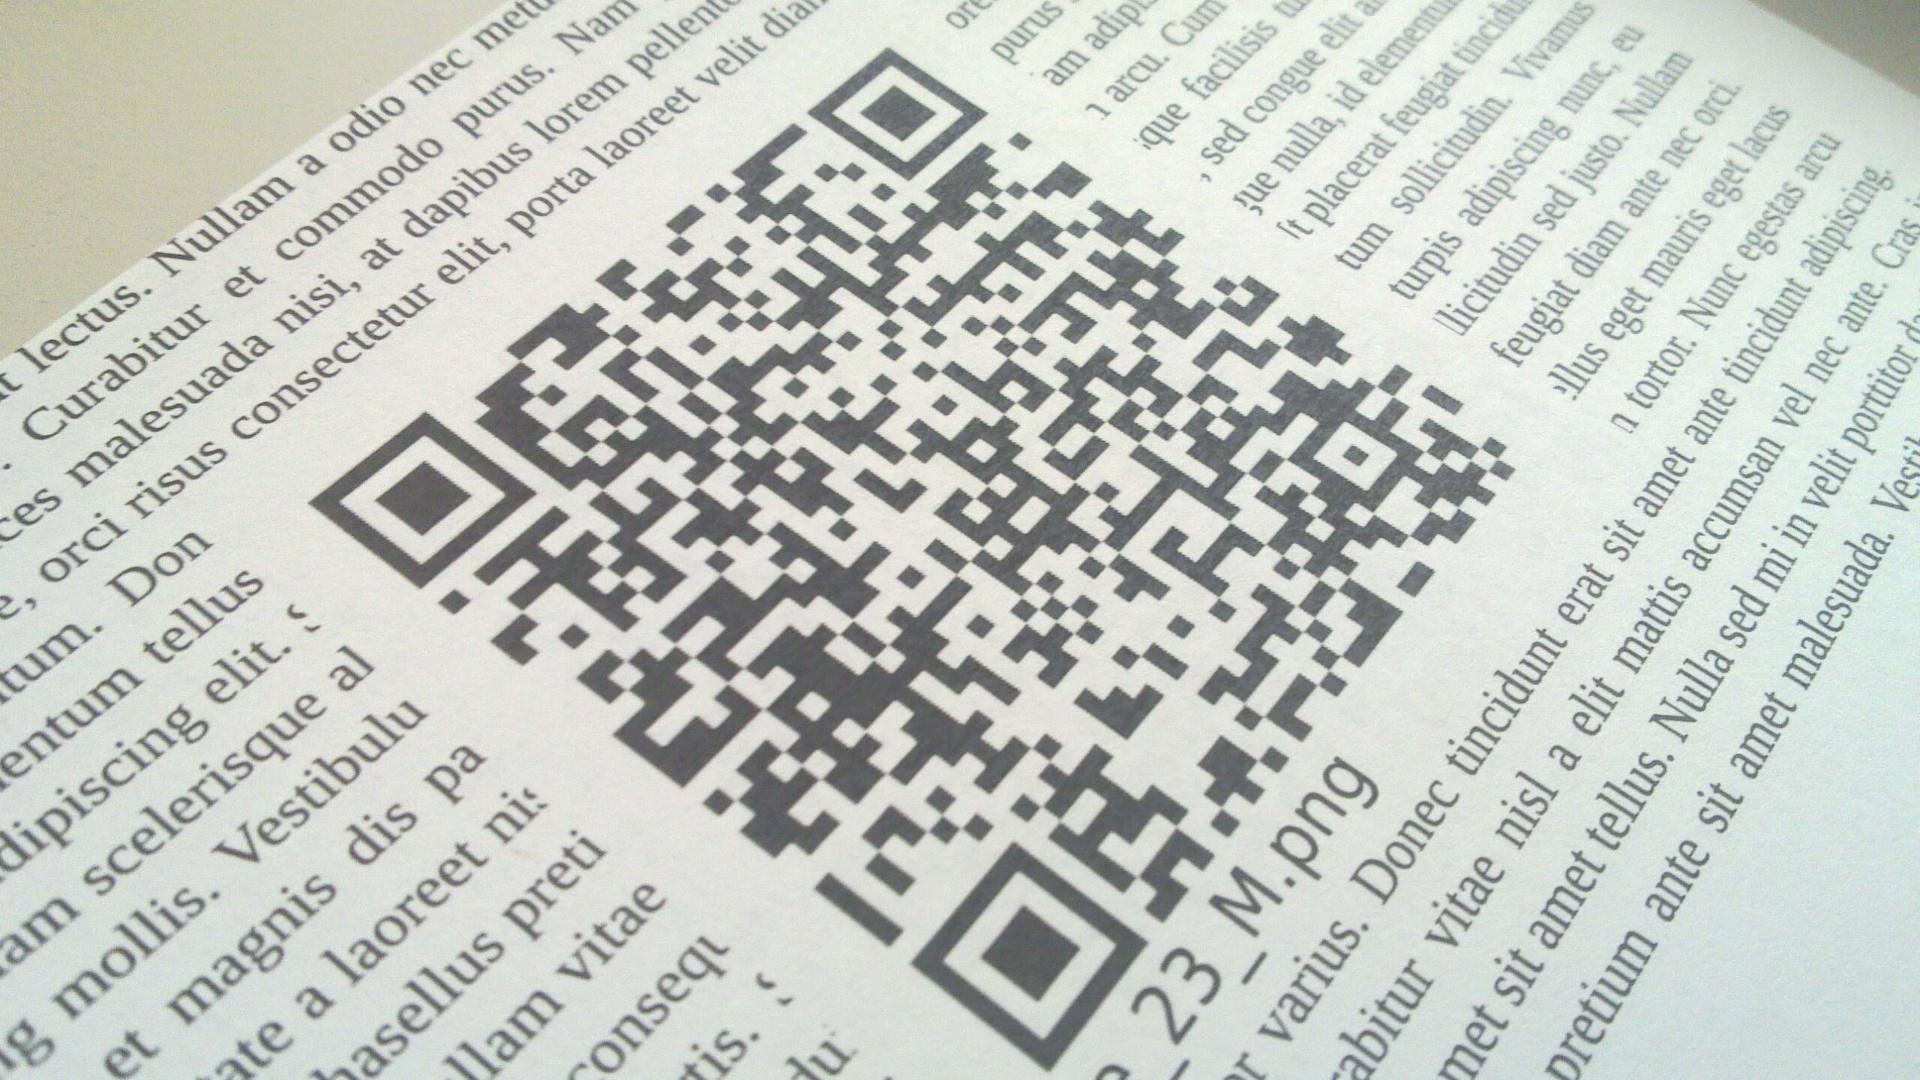Finder pattern: (920, 849, 1139, 1017), (318, 422, 525, 580), (796, 49, 993, 179)
